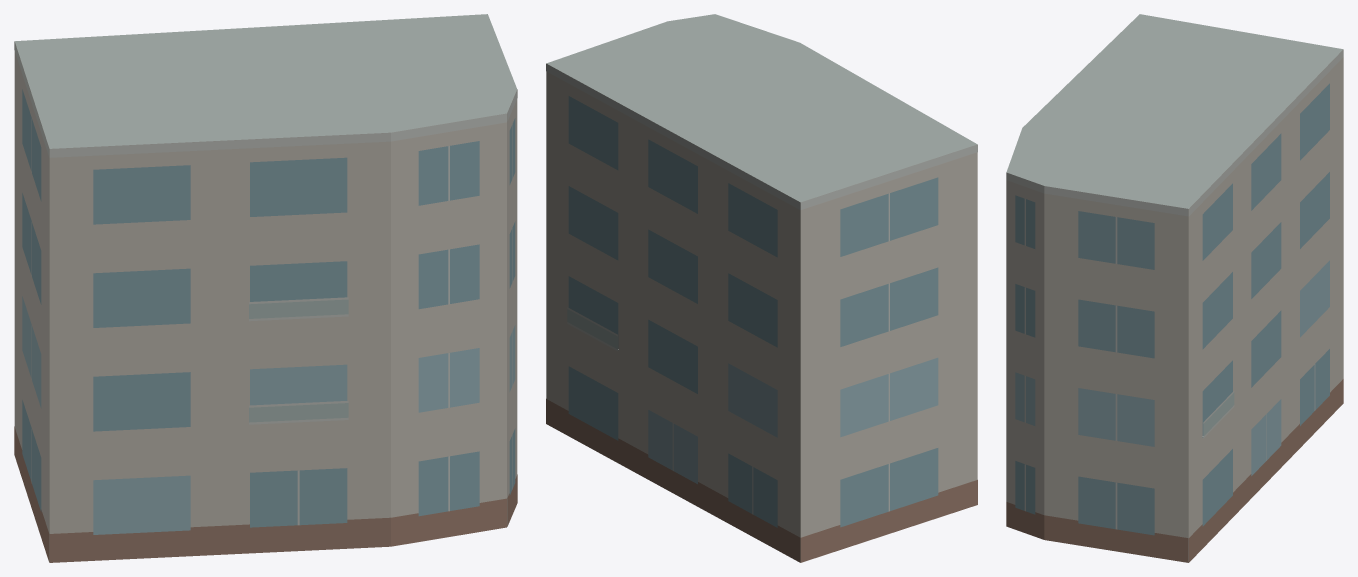
The model's file is survey-upis-32470771.glb.
3 renders of one model, left to right at view 1: azimuth 30°, elevation 25°; view 2: azimuth 150°, elevation 25°; view 3: azimuth 270°, elevation 25°, orthographic. The views are drawn at different scales.
Parts seen in each view (by area): view 1: survey-upis-32470771.tmp; view 2: survey-upis-32470771.tmp; view 3: survey-upis-32470771.tmp.
Part boxes in pixels (x1,y1,x2,y2): survey-upis-32470771.tmp: [14, 14, 517, 562]; survey-upis-32470771.tmp: [546, 14, 977, 562]; survey-upis-32470771.tmp: [1006, 14, 1343, 562].
Bounding box in the file's own units: 13.35 × 11.3 × 9.77.
